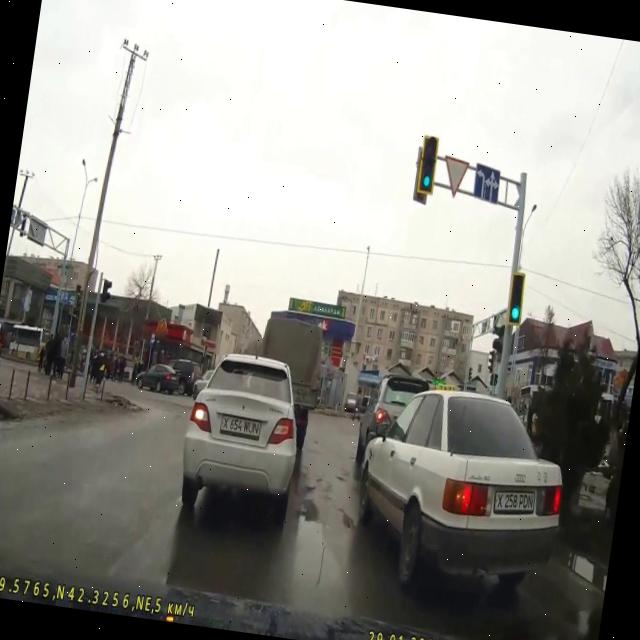License-plate: (218, 411, 264, 444), (493, 489, 536, 516)
